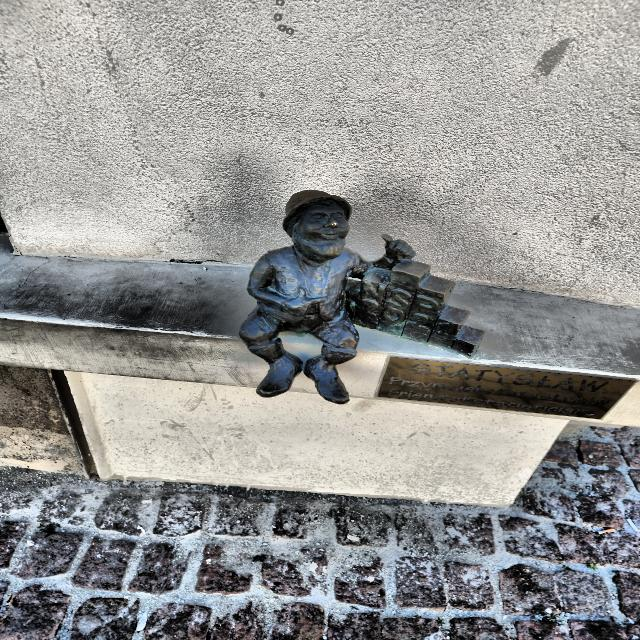Statyslaw: (238, 191, 485, 404)
